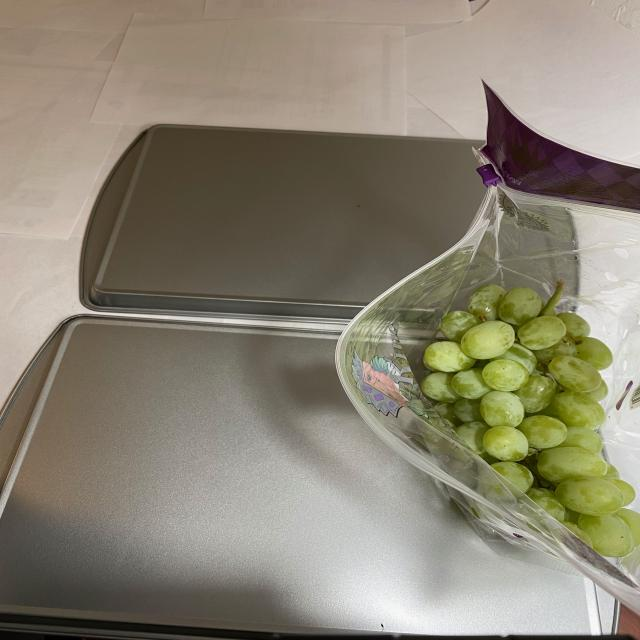grapes: (416, 269, 636, 565)
